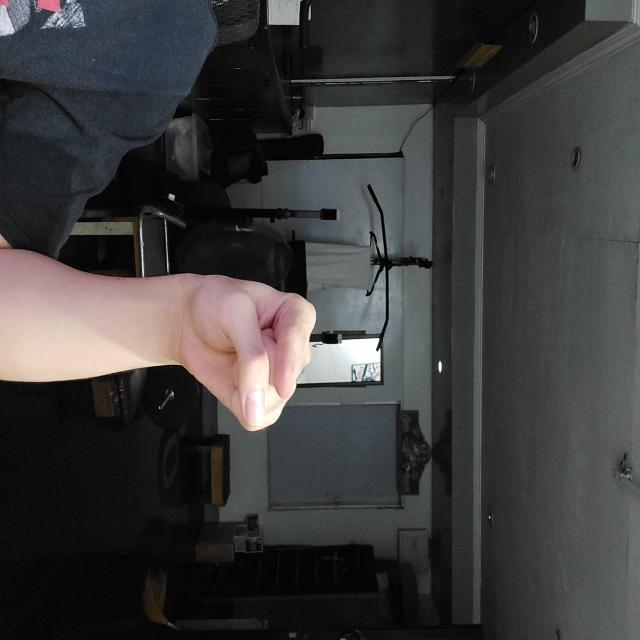Z: (273, 323, 432, 462)
